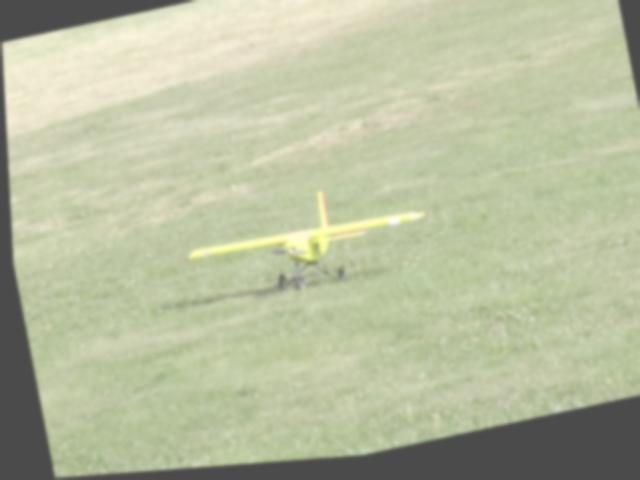plane: (178, 176, 434, 309)
